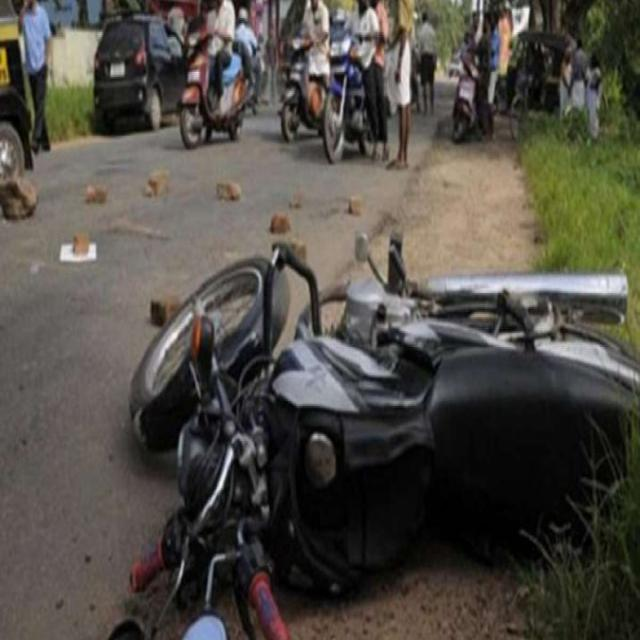accident: (111, 236, 640, 638), (355, 236, 372, 266)
car: (94, 16, 185, 131)
